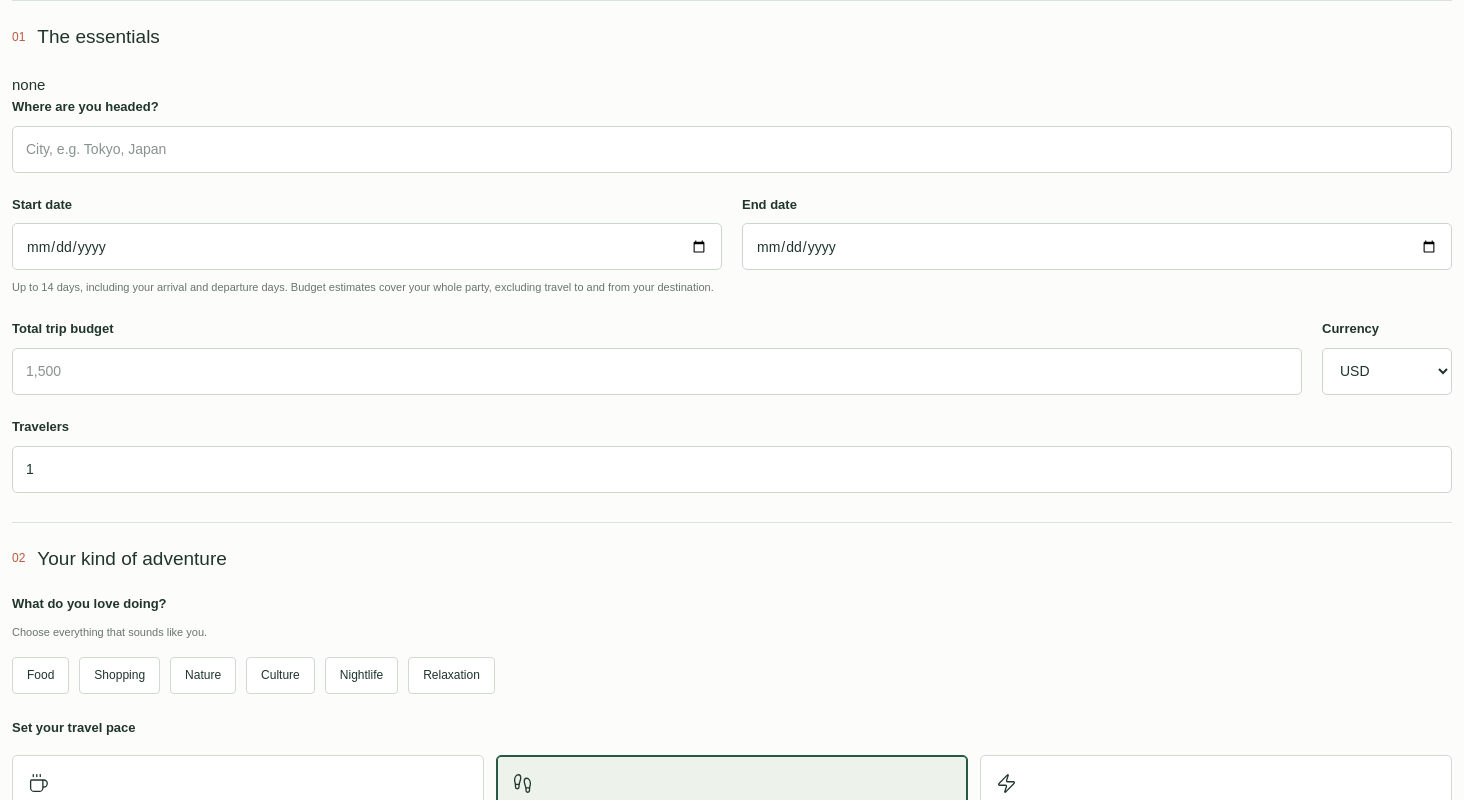
Scenario: shares one confirmed destination with both visuals; typing is not selection
This screenshot has width=1464, height=800.
Step 1. Type "Tok" into the dropdown labelled "Where are you headed?" → (732, 149), box [12, 126, 1452, 173]
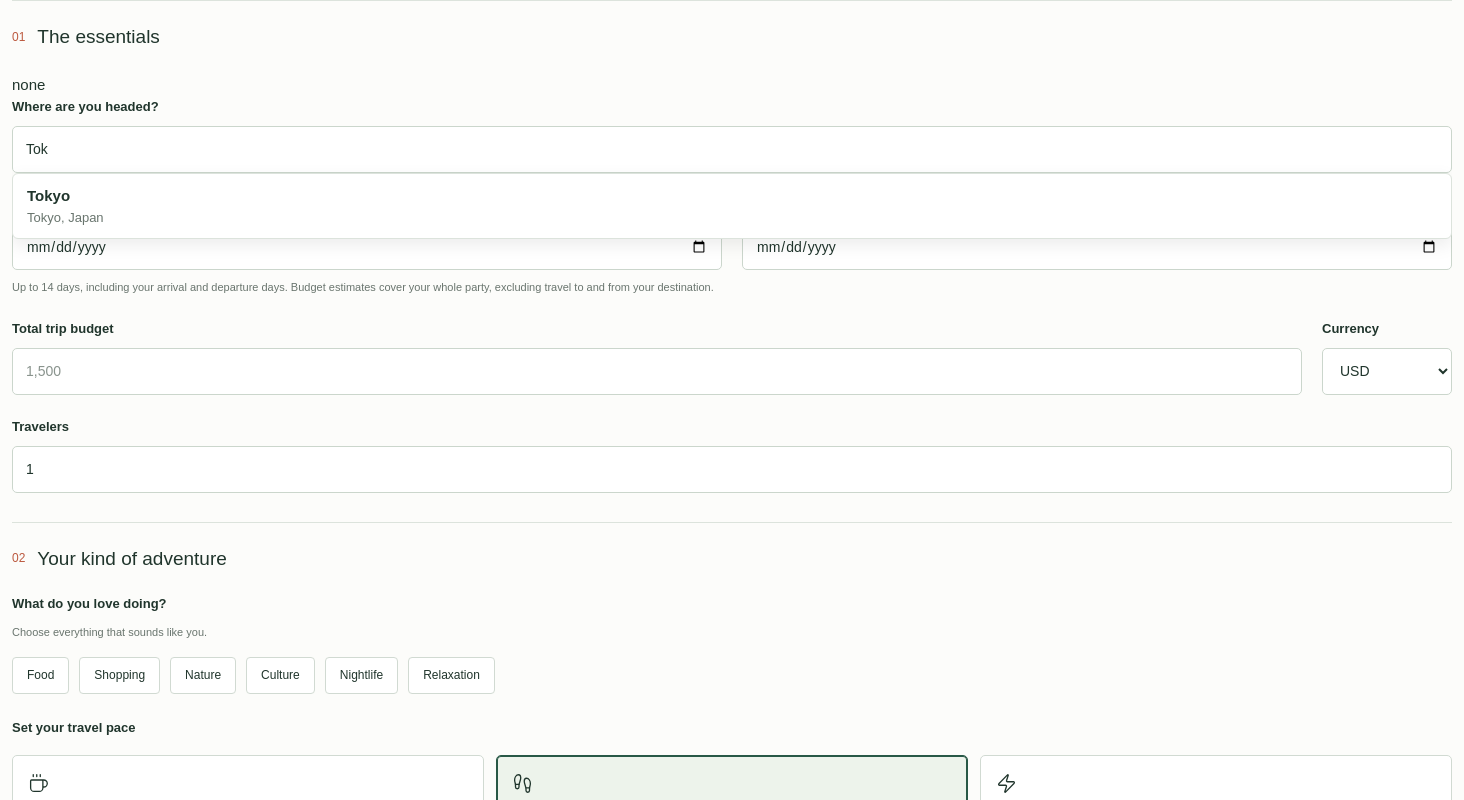
expect the text with test id "selection" reads "none": met, box [12, 76, 45, 93]
Step 2. Click the option "Tokyo Tokyo, Japan" → (65, 206), box [27, 187, 104, 225]
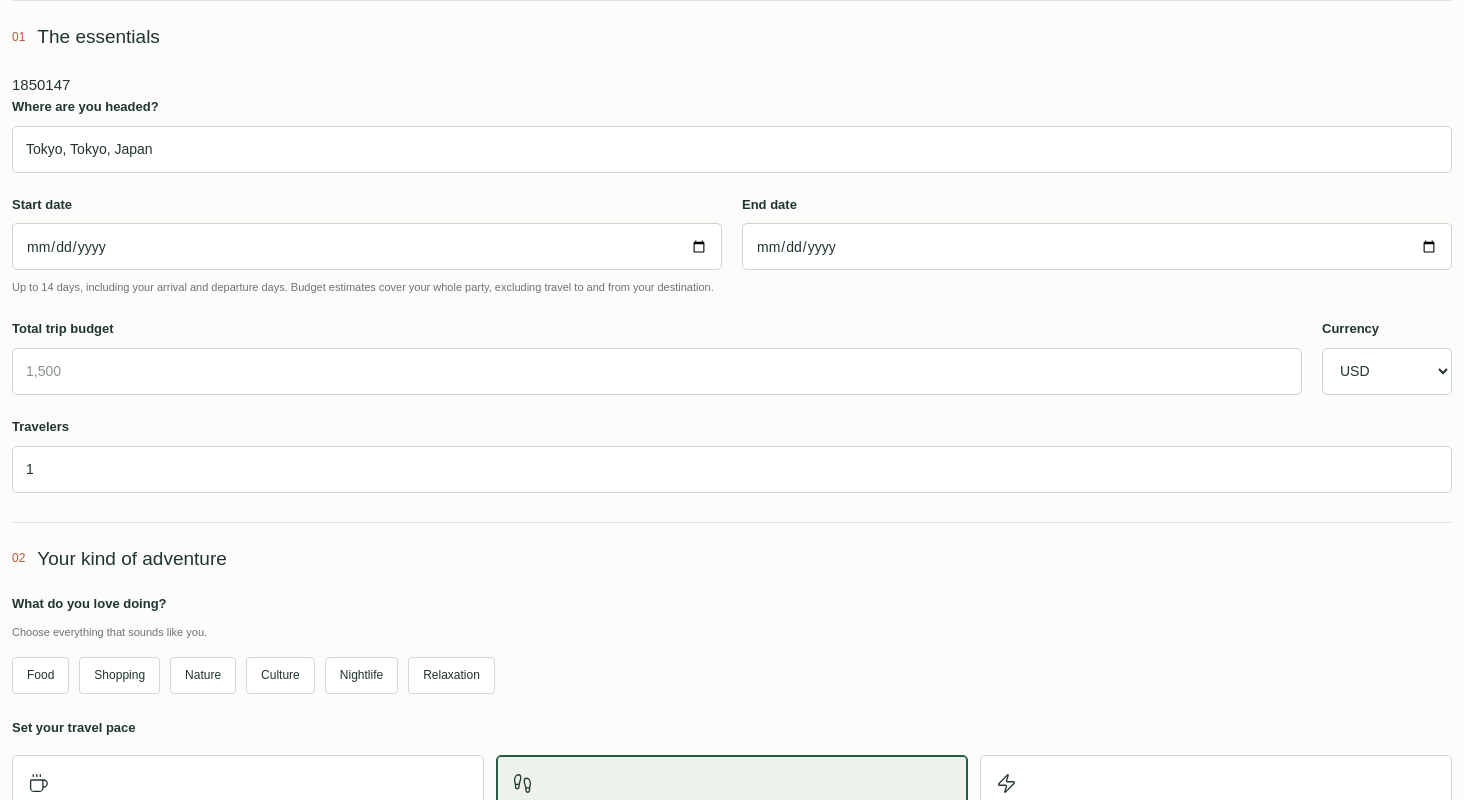
expect the text with test id "selection" reads "1850147": met, box [12, 76, 70, 93]
Step 3. Replace the text in the dropdown labelled "Where are you headed?" with "Par" → (732, 149), box [12, 126, 1452, 173]
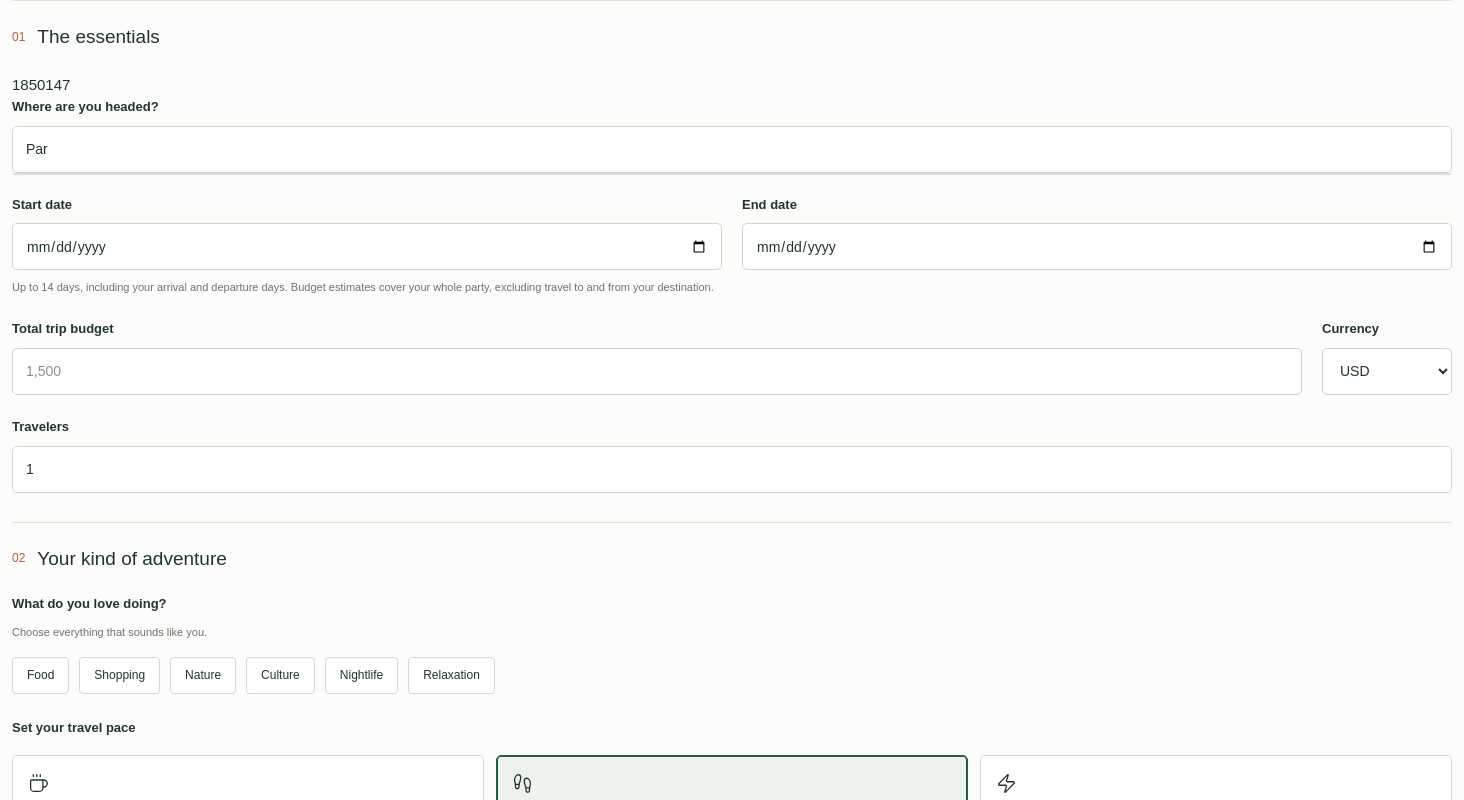
expect the text with test id "selection" reads "1850147": met, box [12, 76, 70, 93]
Step 4. Clear the dropdown labelled "Where are you headed?" → (732, 149), box [12, 126, 1452, 173]
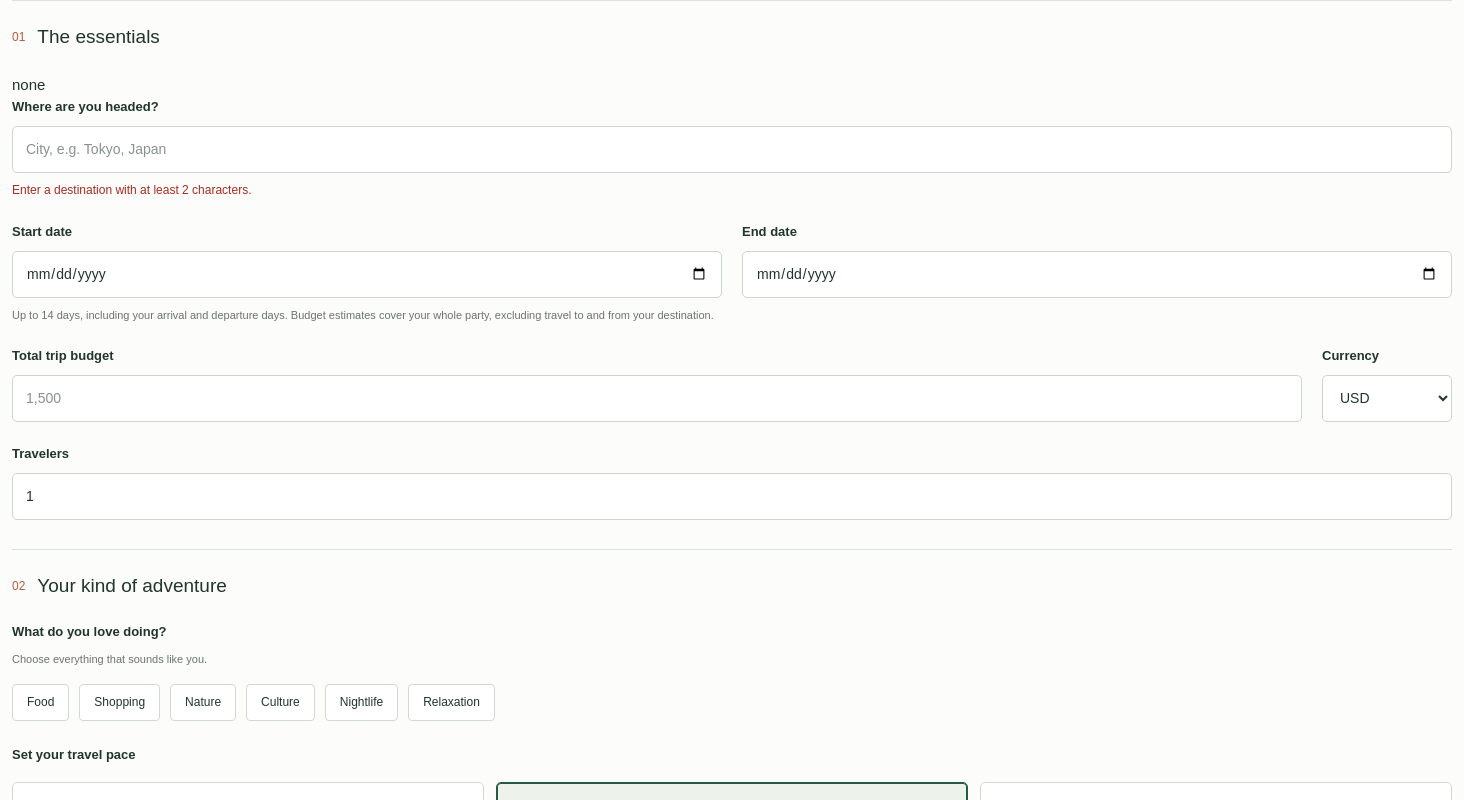
expect the text with test id "selection" reads "none": met, box [12, 76, 45, 93]
